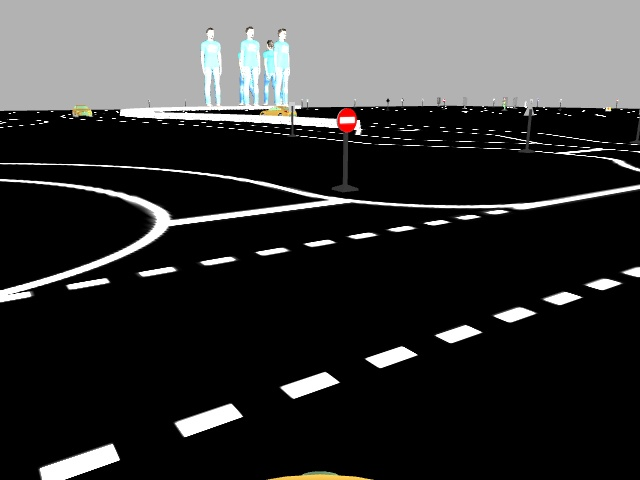NoEntry: (332, 106, 358, 132)
